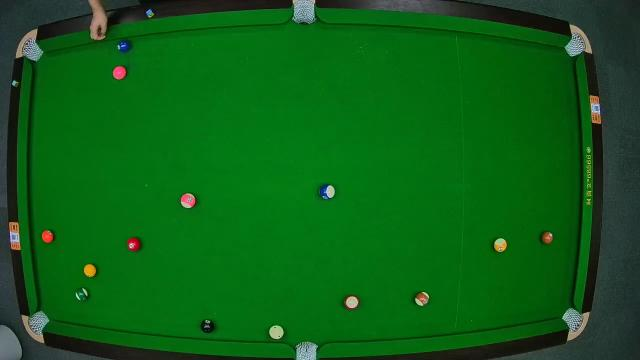bag1: (20, 38, 40, 60)
bag2: (292, 1, 316, 23)
bag3: (563, 34, 589, 57)
bag4: (26, 309, 50, 333)
bag5: (296, 338, 318, 360)
bag6: (562, 310, 584, 330)
ball0: (268, 324, 284, 340)
ball1: (84, 264, 96, 276)
ball10: (318, 184, 336, 200)
ball11: (344, 294, 360, 310)
ball12: (180, 192, 196, 209)
ball14: (74, 286, 88, 302)
ball15: (414, 290, 431, 306)
ball2: (116, 38, 132, 52)
ball3: (126, 237, 142, 253)
ball4: (112, 66, 126, 80)
ball5: (42, 230, 54, 244)
ball7: (540, 231, 554, 245)
ball8: (200, 319, 214, 333)
ball9: (494, 239, 508, 253)
